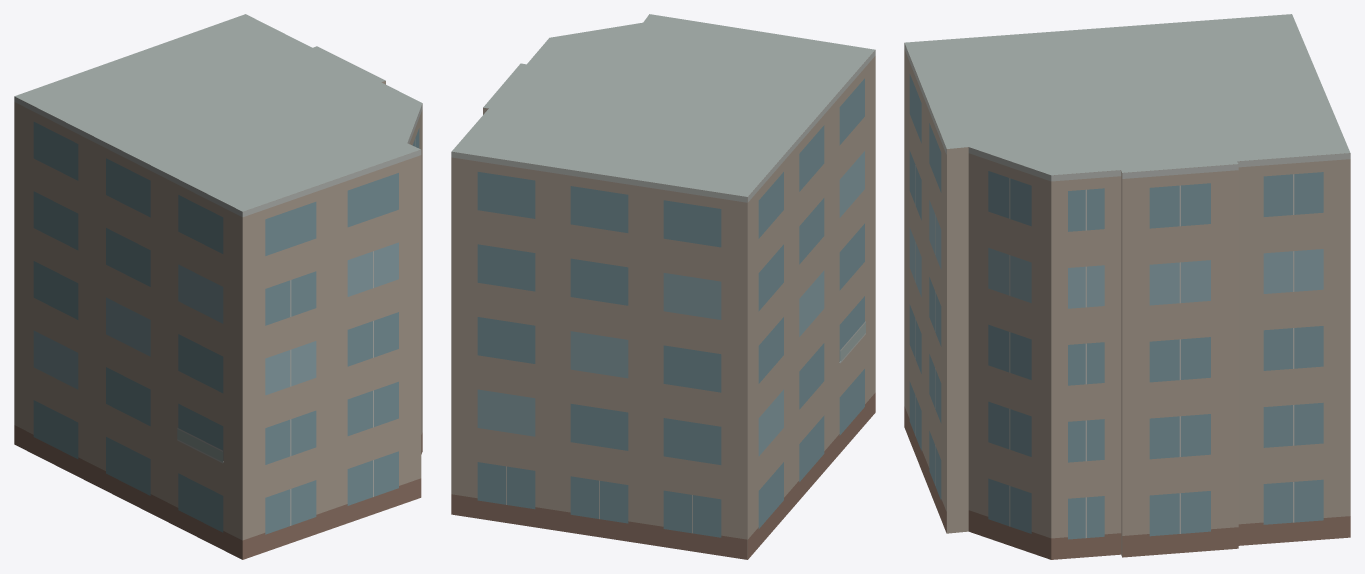
The model's file is survey-upis-32843674.glb.
3 renders of one model, left to right at view 1: azimuth 30°, elevation 25°; view 2: azimuth 150°, elevation 25°; view 3: azimuth 270°, elevation 25°, orthographic. The views are drawn at different scales.
Visible parts, largest first — view 1: survey-upis-32843674.tmp; view 2: survey-upis-32843674.tmp; view 3: survey-upis-32843674.tmp.
Part boxes in pixels (x1,y1,x2,y2): survey-upis-32843674.tmp: (14, 14, 422, 559); survey-upis-32843674.tmp: (451, 14, 875, 559); survey-upis-32843674.tmp: (904, 14, 1350, 559).
Bounding box in the file's own units: 13.73 × 15.25 × 16.04.
